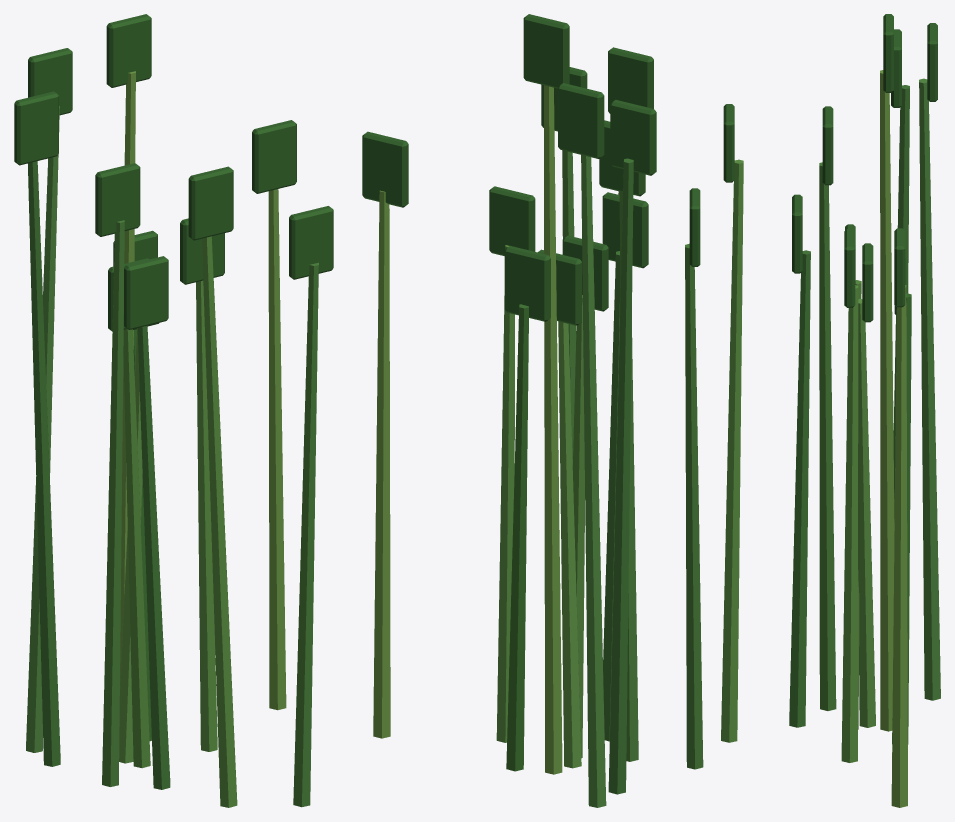
Rendered from Reeds.glb.
The picture shows the model from 3 angles, left to right: view 1: azimuth 30°, elevation 25°; view 2: azimuth 150°, elevation 25°; view 3: azimuth 270°, elevation 25°; orthographic projection. The views are drawn at different scales.
Parts seen in each view (by area): view 1: Body; view 2: Body; view 3: Body.
Part boxes in pixels (x1,y1,x2,y2): Body: (14,14,333,807); Body: (362,14,656,807); Body: (685,14,940,807).
Bounding box in the file's own units: 2.34 × 5.78 × 1.89.
